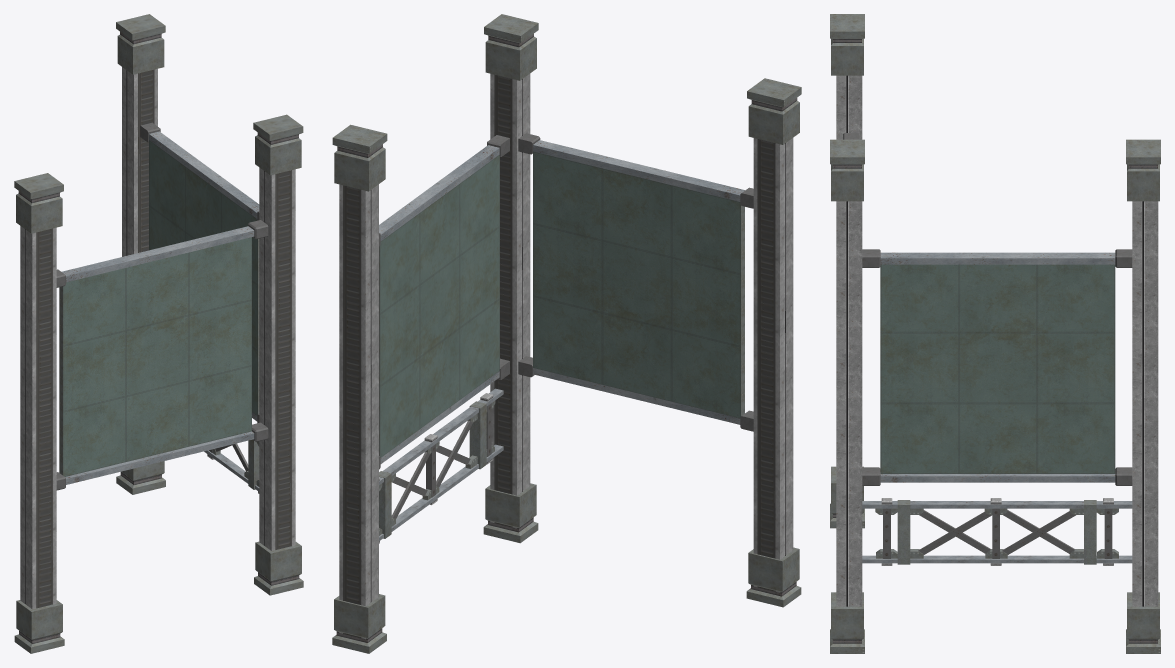
The model's file is Ob_ScafWallCorner1_RC.fbx.
The picture shows the model from 3 angles, left to right: view 1: azimuth 30°, elevation 25°; view 2: azimuth 150°, elevation 25°; view 3: azimuth 270°, elevation 25°; orthographic projection. The views are drawn at different scales.
Visible parts, largest first — view 1: Ob_ScafWallCorner1_RC; view 2: Ob_ScafWallCorner1_RC; view 3: Ob_ScafWallCorner1_RC.
Boxes of the visible parts, x1,y1,x2,y2 form: Ob_ScafWallCorner1_RC: (14, 14, 303, 653); Ob_ScafWallCorner1_RC: (332, 14, 801, 653); Ob_ScafWallCorner1_RC: (830, 14, 1160, 653).
Size of the model in its own units: 4464 by 7205 by 4352.
